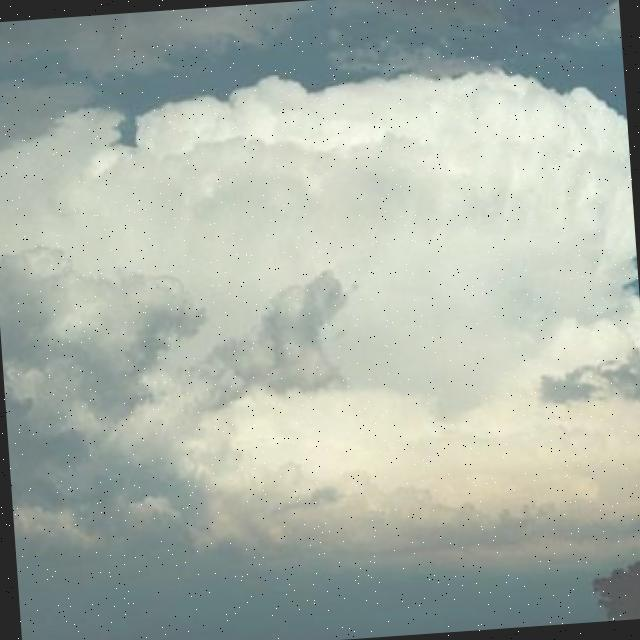Cb: (1, 50, 640, 584)
